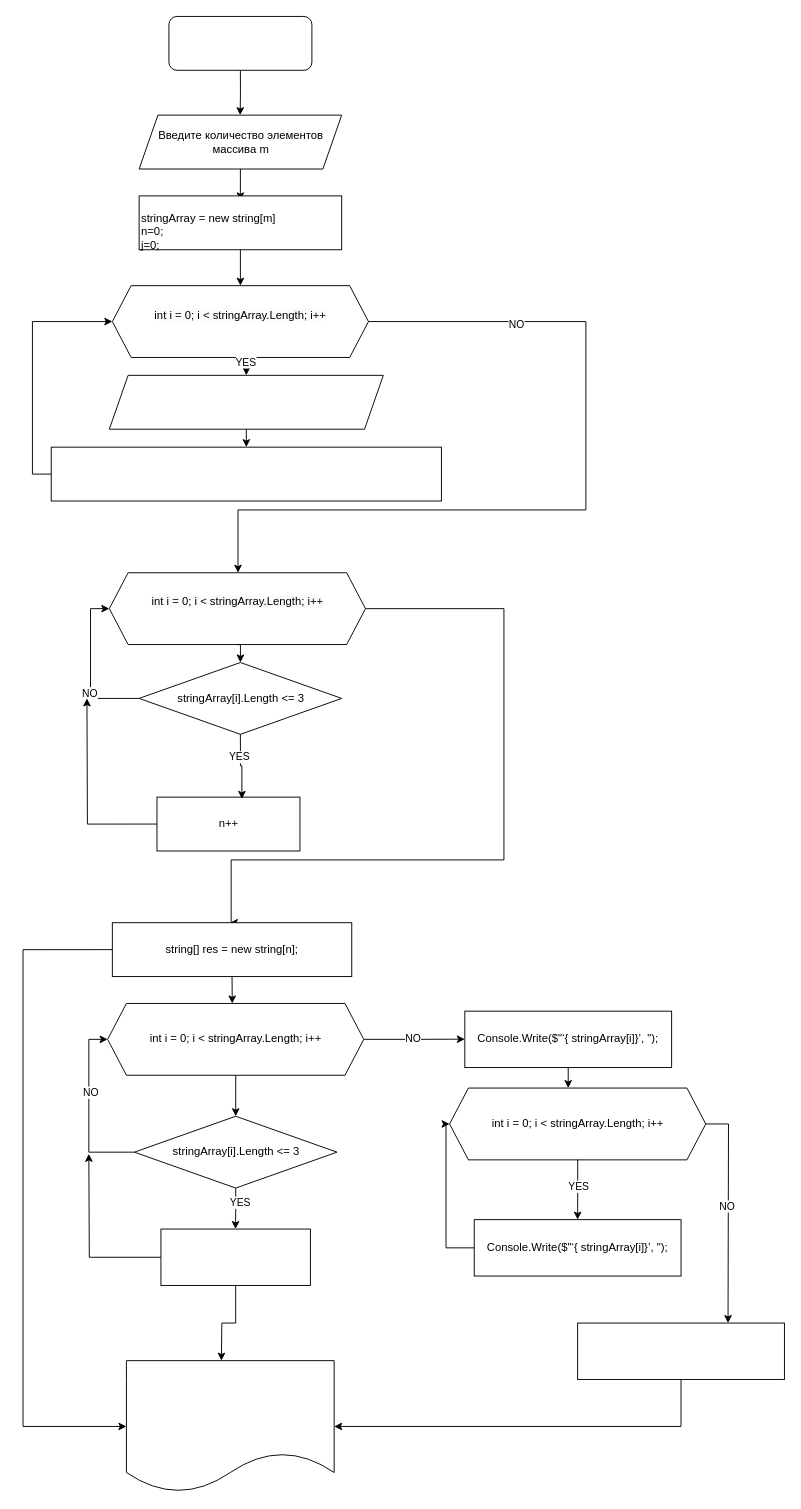
The diagram is 801 pixels wide and 1509 high, and some of its shapes have lost their labels. Here are the shapes that lost their labels. From the top down, the centre of each, then its label:
point 240,43: Start
point 245,401: Console.WriteLine($"Введите {i + 1} элемент массива");
point 245,473: stringArray[i] = Console.ReadLine()!
point 235,1256: res[j] = stringArray[i]; j++;
point 680,1350: Console.Write("]");
point 229,1426: FillArray(stringArray); printA(CheckSymbol(stringArray));
